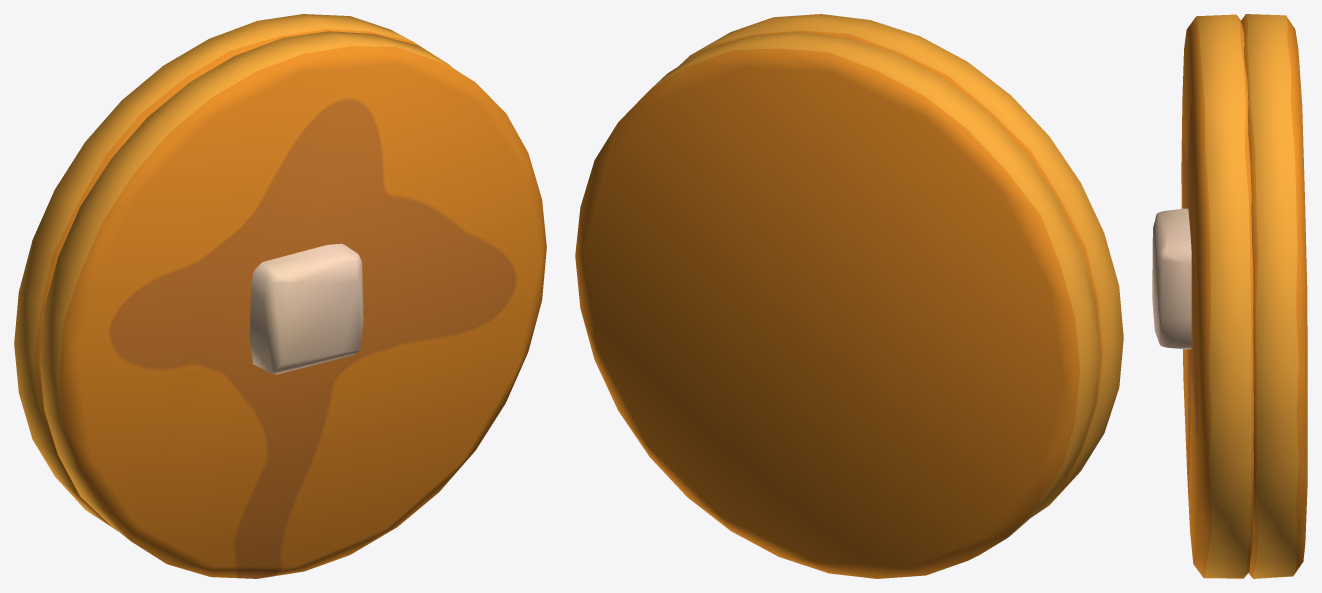
Rendered from orange_pancake.glb.
3 renders of one model, left to right at view 1: azimuth 30°, elevation 25°; view 2: azimuth 150°, elevation 25°; view 3: azimuth 270°, elevation 25°, orthographic.
Parts seen in each view (by area): view 1: orange_pancake; view 2: orange_pancake; view 3: orange_pancake.
Boxes of the visible parts, x1,y1,x2,y2 form: orange_pancake: [14, 14, 546, 578]; orange_pancake: [575, 14, 1123, 578]; orange_pancake: [1152, 14, 1307, 578].
Size of the model in its own units: 0.7329 by 0.7302 by 0.2012.
1 material, 1 textured.
